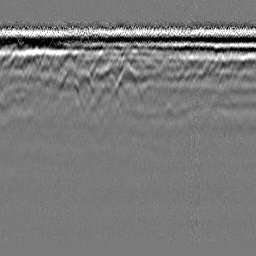cavity: (108, 59, 144, 101)
